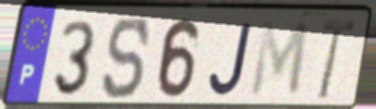3: (51, 18, 98, 98)
6: (155, 15, 203, 103)
J: (207, 20, 255, 98)
M: (247, 19, 312, 101)
S: (100, 15, 153, 103)
T: (316, 17, 358, 103)
